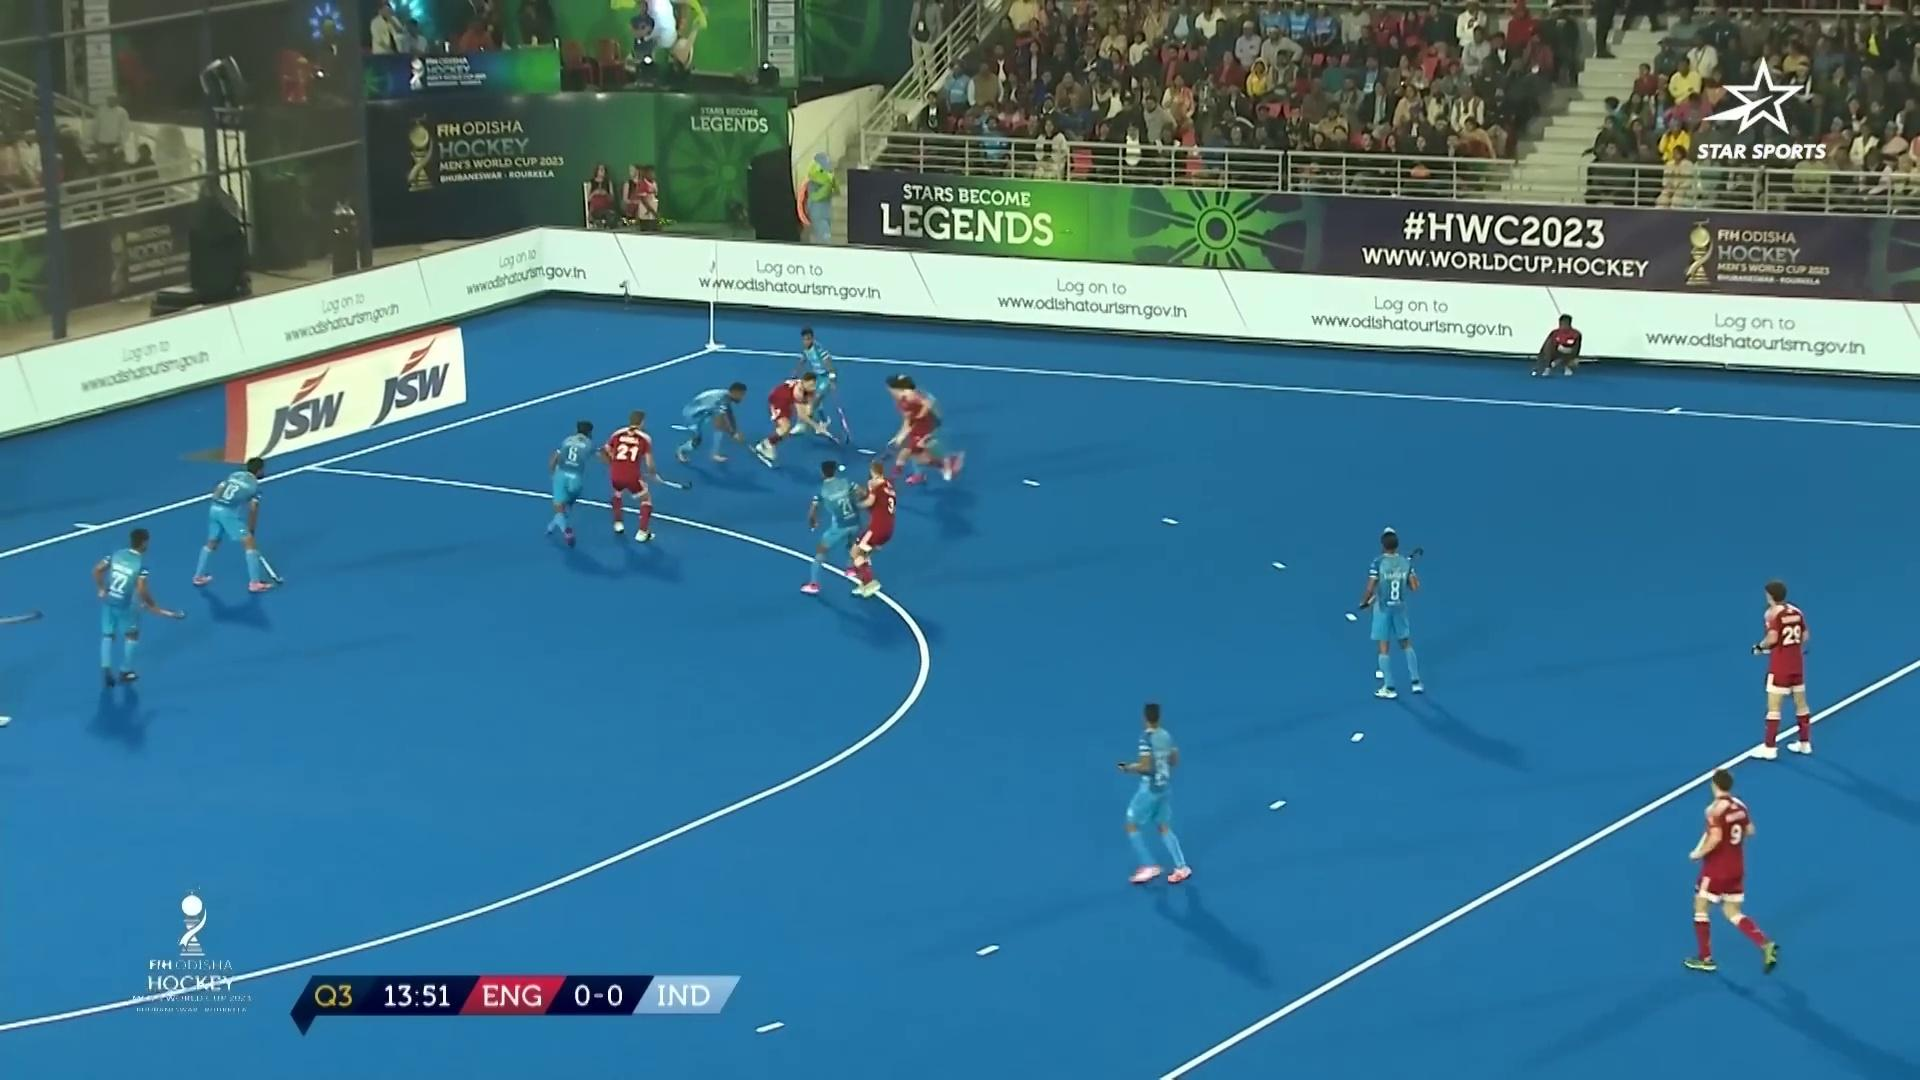ball: (836, 463, 848, 473)
